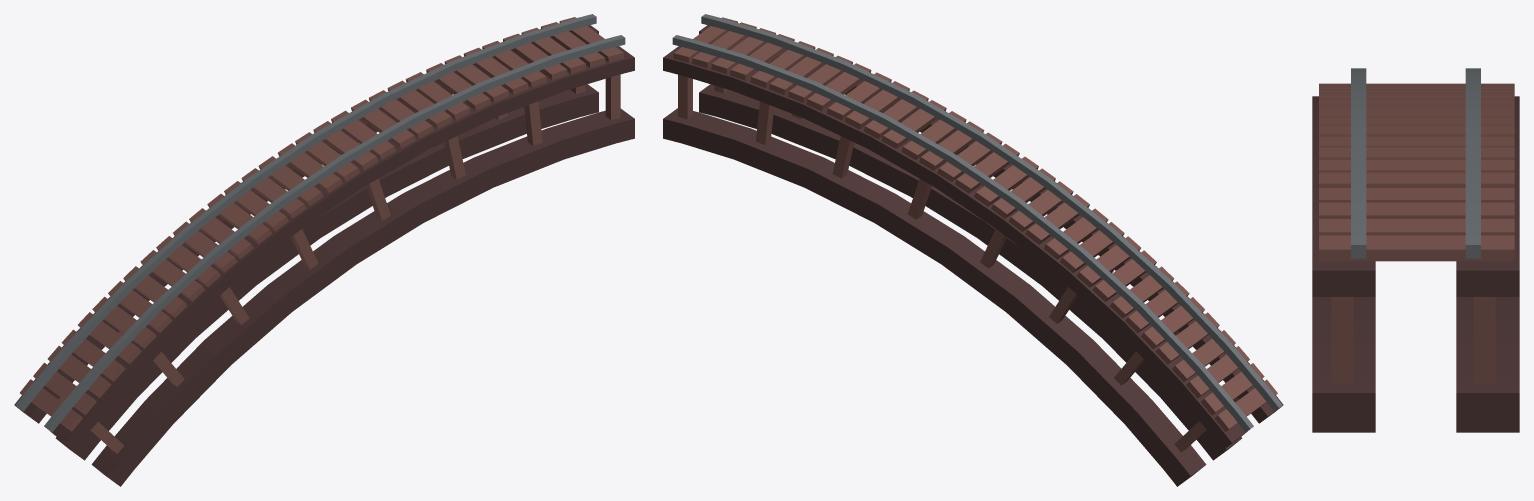
The model's file is DarkRoseWoodMechGentle0_96GaugeFall1.fbx.
3 views of the same model, side by side, from view 1: azimuth 30°, elevation 25°; view 2: azimuth 150°, elevation 25°; view 3: azimuth 270°, elevation 25° (orthographic). The views are drawn at different scales.
Visible parts, largest first — view 1: DarkRoseWoodMechGentle0_96GaugeFall1; view 2: DarkRoseWoodMechGentle0_96GaugeFall1; view 3: DarkRoseWoodMechGentle0_96GaugeFall1.
Part boxes in pixels (x1,y1,x2,y2): DarkRoseWoodMechGentle0_96GaugeFall1: (14,14,634,486); DarkRoseWoodMechGentle0_96GaugeFall1: (663,14,1283,486); DarkRoseWoodMechGentle0_96GaugeFall1: (1312,68,1519,432).
Size of the model in its own units: 1424 by 746 by 221.
